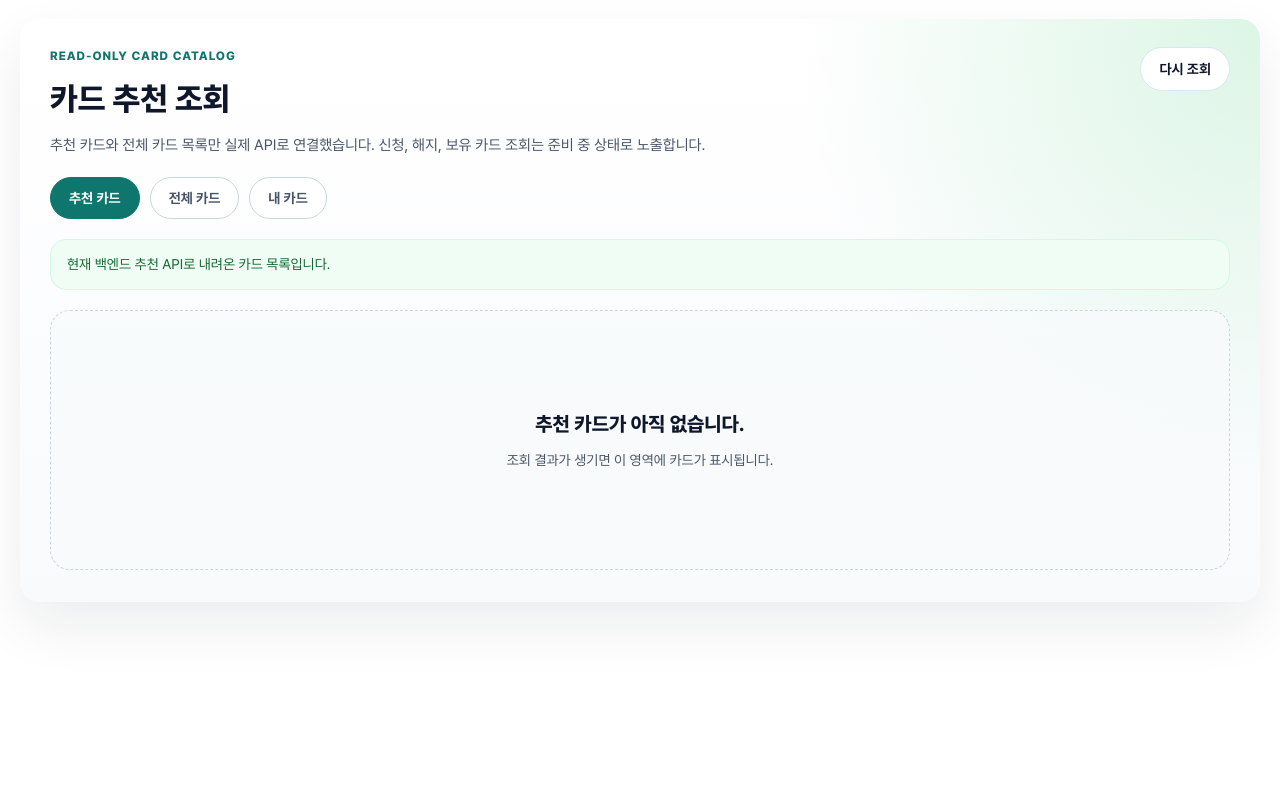
it: CardCatalog › switches to the card list tab and opens the detail view
Click the button "전체 카드" at [194, 198], box left=150, top=177, right=239, bottom=219
(page scrolled)
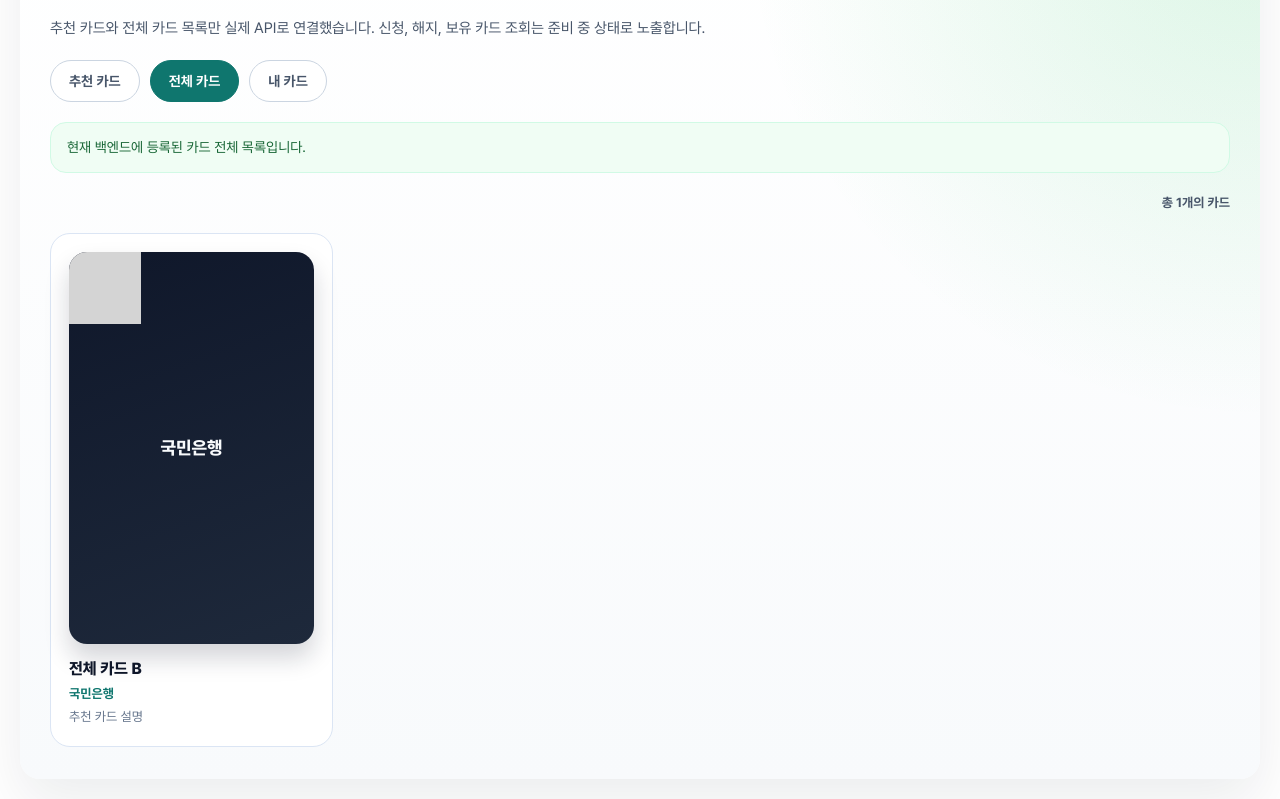
Click the button "국민은행 전체 카드 B 국민은행 추천 카드 설명" at [192, 490], box left=50, top=232, right=333, bottom=747
(page scrolled)
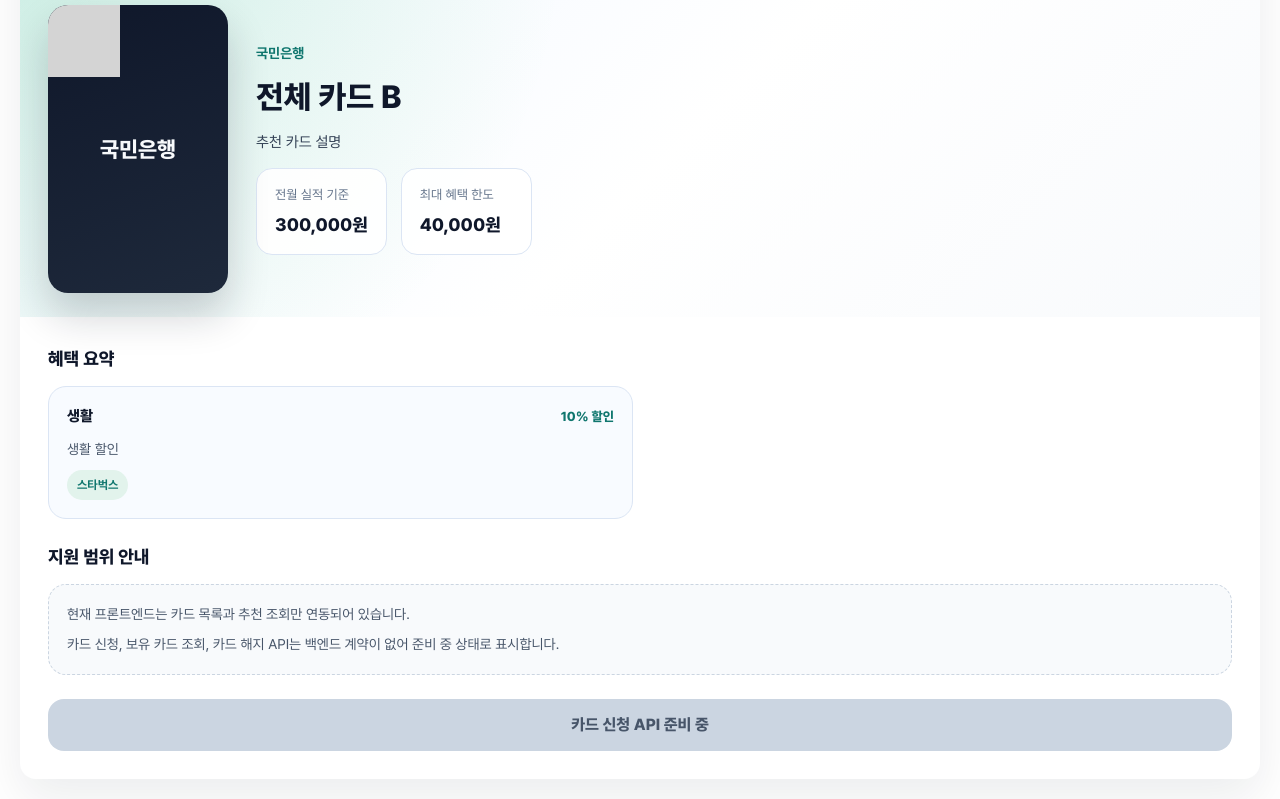
Check: the button "카드 신청 API 준비 중" is disabled, box left=48, top=699, right=1232, bottom=751
